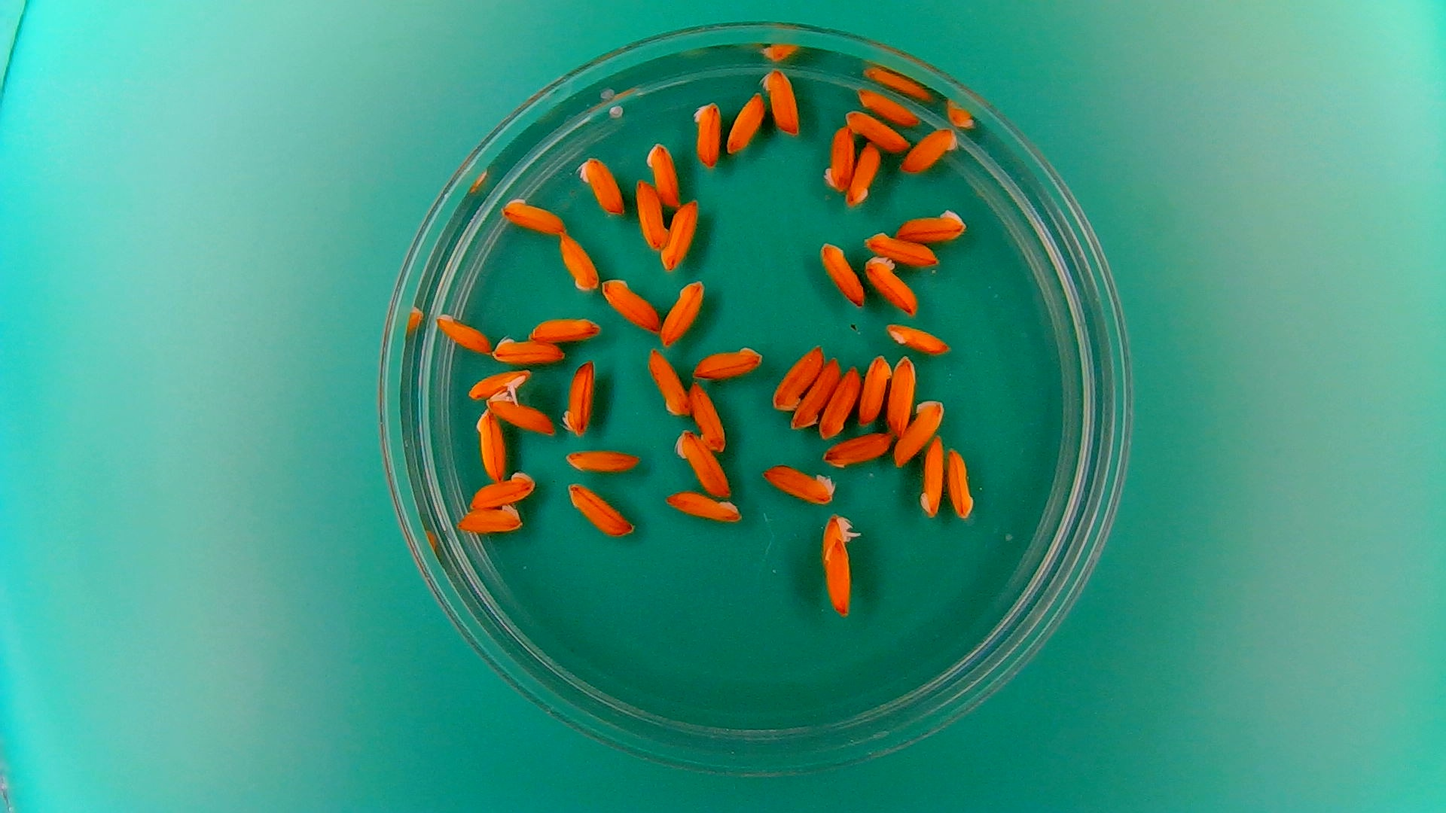no: (672, 427, 734, 499), (563, 480, 636, 540), (768, 341, 825, 413), (790, 355, 842, 430), (892, 395, 945, 467), (758, 460, 838, 506), (862, 254, 920, 317), (819, 361, 864, 441), (599, 274, 660, 333), (658, 276, 706, 346), (844, 110, 912, 159), (818, 238, 866, 307), (660, 486, 743, 525), (645, 346, 690, 416), (487, 391, 557, 436), (899, 124, 960, 175), (576, 154, 626, 216), (763, 68, 805, 141), (660, 196, 700, 272), (821, 429, 895, 470), (861, 230, 941, 267), (688, 380, 728, 454), (560, 357, 596, 439), (689, 342, 766, 380), (467, 469, 538, 510), (499, 194, 567, 236), (724, 90, 767, 155), (557, 231, 601, 293), (886, 352, 918, 437), (892, 206, 969, 241), (856, 352, 892, 426), (643, 139, 681, 209), (634, 176, 669, 251), (433, 311, 491, 356), (944, 443, 977, 521), (883, 321, 953, 357), (846, 139, 882, 209), (561, 445, 642, 476), (474, 405, 507, 481), (490, 333, 566, 366), (916, 433, 945, 519), (856, 87, 919, 126), (820, 122, 855, 192), (527, 313, 604, 343), (453, 503, 525, 535), (691, 97, 721, 169)
yes: (818, 507, 865, 621), (462, 365, 532, 402)
